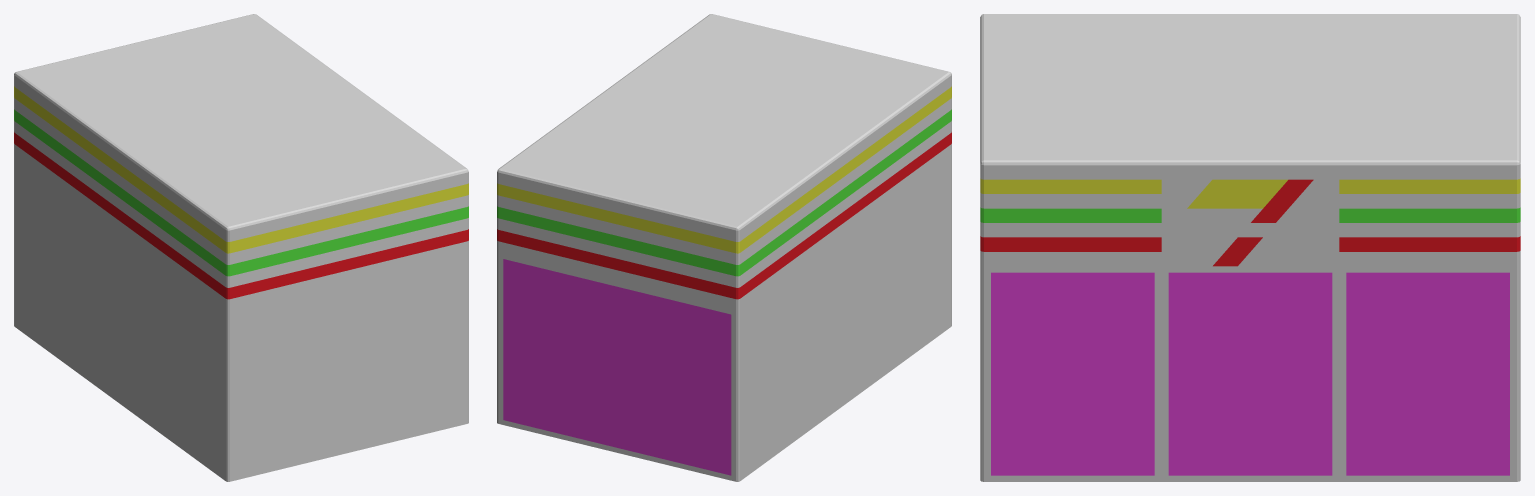
Rendered from seven2.fbx.
3 renders of one model, left to right at view 1: azimuth 30°, elevation 25°; view 2: azimuth 150°, elevation 25°; view 3: azimuth 270°, elevation 25°, orthographic. The views are drawn at different scales.
Parts seen in each view (by area): view 1: Cube; view 2: Cube; view 3: Cube.
Part boxes in pixels (<box>): Cube: <box>14,14,468,481</box>; Cube: <box>497,14,951,481</box>; Cube: <box>980,14,1520,481</box>.
Bounding box in the file's own units: 5 × 7.65 × 5.
